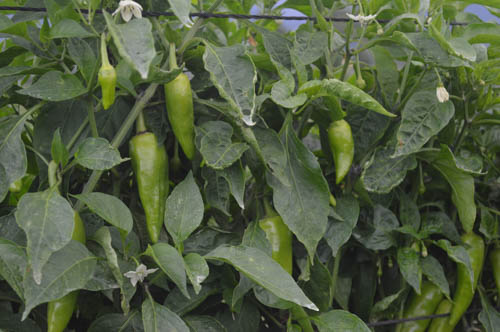ChiliPepper: (40, 216, 84, 330), (133, 136, 168, 244), (449, 230, 486, 321), (167, 76, 198, 158), (260, 215, 298, 276), (402, 281, 440, 328), (327, 120, 354, 183), (99, 65, 115, 107)
